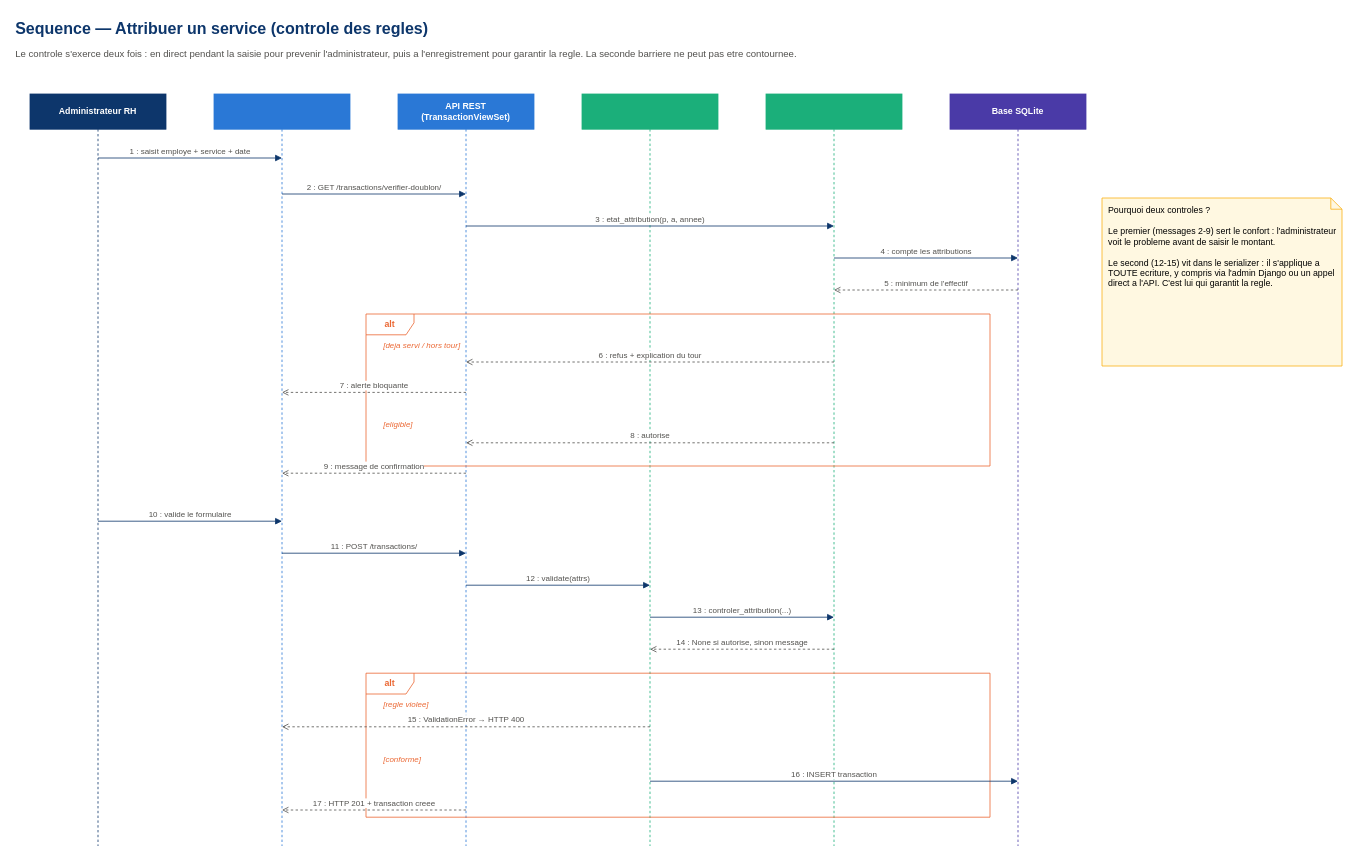
Image size: 1356x860. Some labels were removed from this diagram. Each missing label, with the box of its shape:
core.regles: (765, 93, 902, 846)
Interface React (Transactions): (213, 93, 350, 846)
TransactionSerializer: (581, 93, 718, 846)
